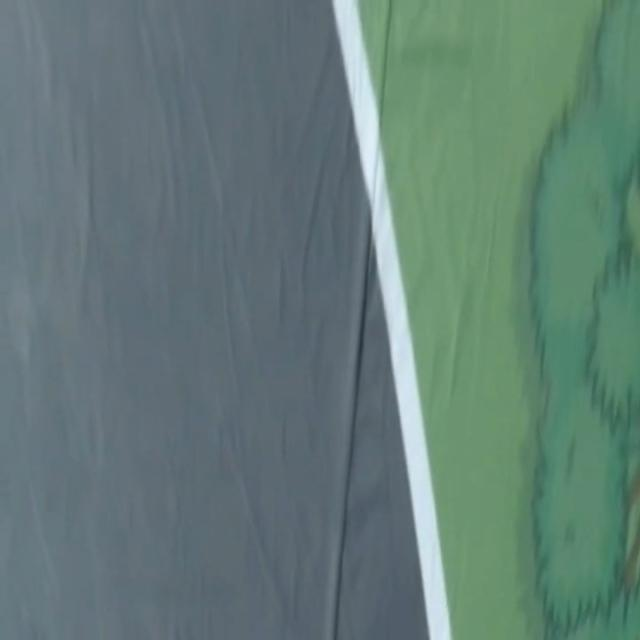right: (333, 0, 451, 639)
